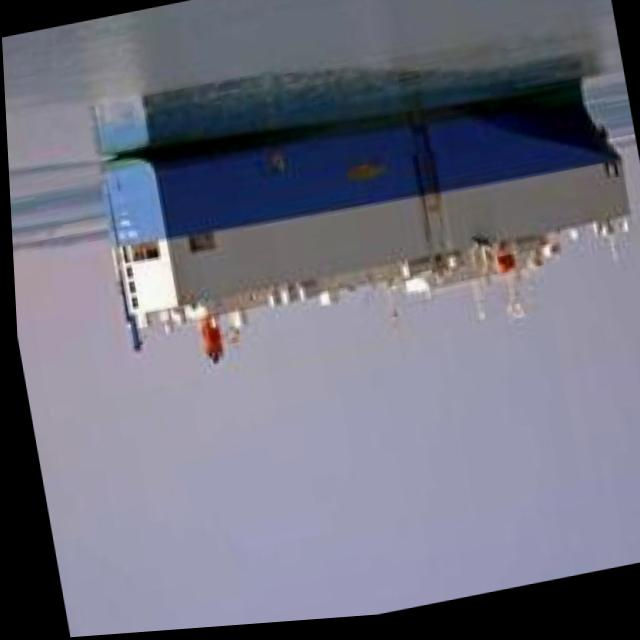ship2: (97, 89, 627, 366)
